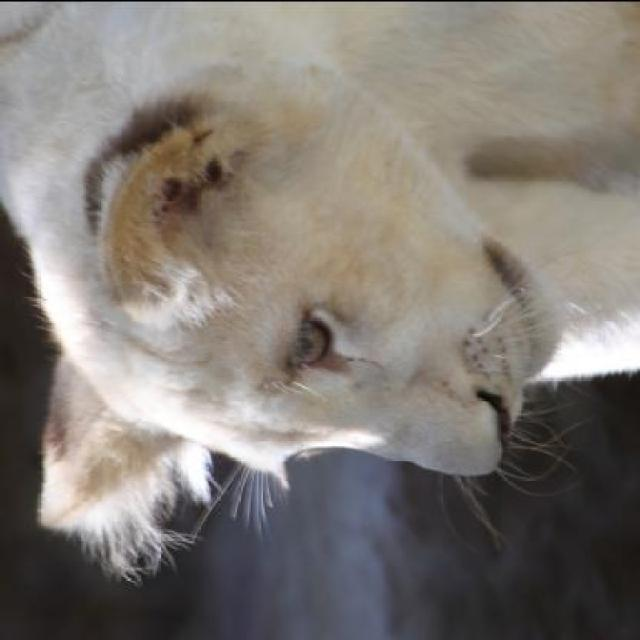Lion: (6, 12, 639, 583)
